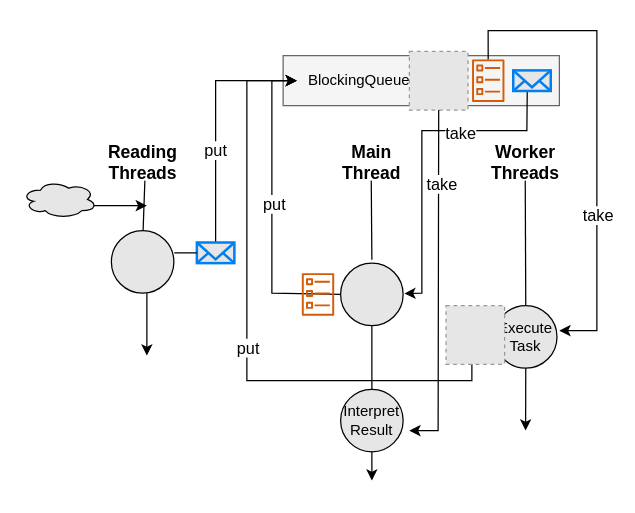
Image size: 635x513. Some labels were removed from this diagram. Grey dashed boxes stand in for pictures. Each missing label, with the box of its shape:
Create Message: (110, 229, 174, 293)
Create Task: (339, 262, 403, 326)
